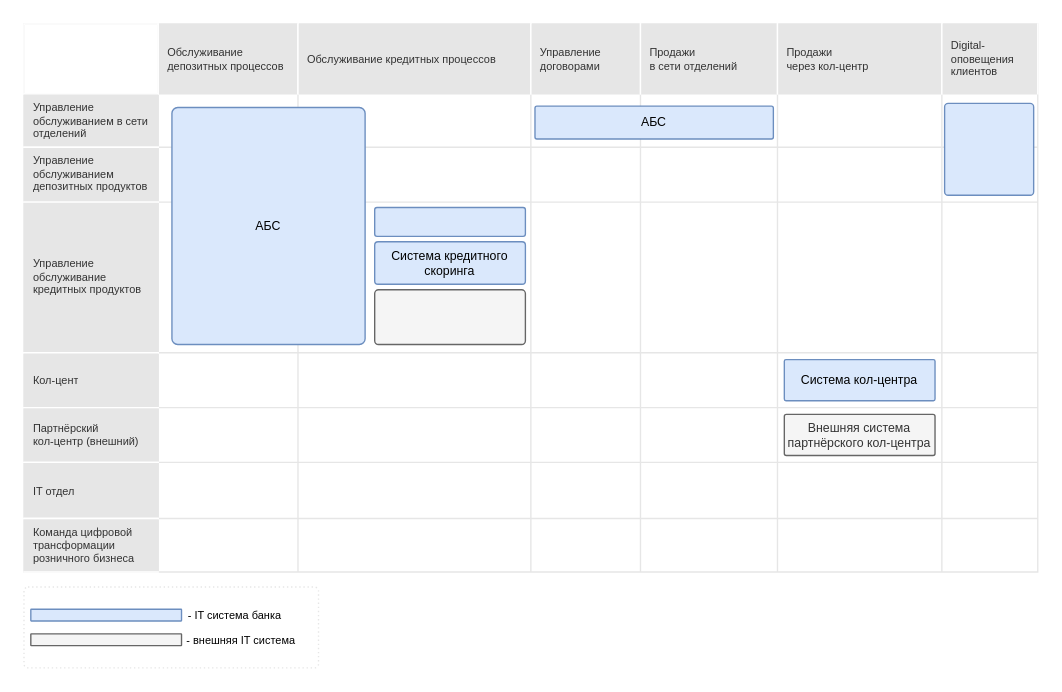
Image size: 1062x692. Some labels were removed from this diagram. Each missing label, with the centre of its shape:
"Бюро кредитных историй REST API" goes at pixel 449 316.
"Кредитный конвеер" goes at pixel 449 221.
"СМС-шлюз" goes at pixel 988 148.
